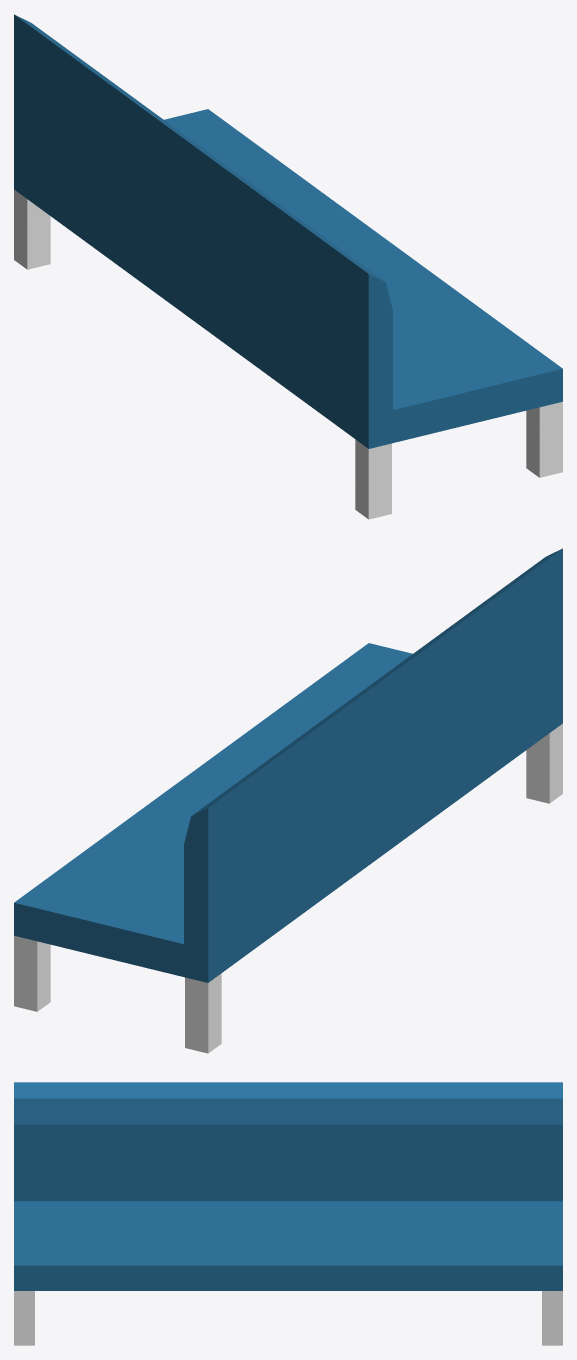
The model's file is Prop_Bench.fbx.
3 renders of one model, top to bottom at view 1: azimuth 30°, elevation 25°; view 2: azimuth 150°, elevation 25°; view 3: azimuth 270°, elevation 25°, orthographic. The views are drawn at different scales.
Visible parts, largest first — view 1: Cube.016, Cube.026; view 2: Cube.016, Cube.026; view 3: Cube.016, Cube.026.
Part boxes in pixels (x1,y1,x2,y2): Cube.016: (14, 14, 562, 448); Cube.026: (14, 189, 562, 519); Cube.016: (14, 548, 562, 982); Cube.026: (14, 723, 562, 1053); Cube.016: (14, 1082, 562, 1290); Cube.026: (14, 1291, 562, 1345).
Bounding box in the file's own units: 311 × 376 × 985.
2 materials, 1 textured.
